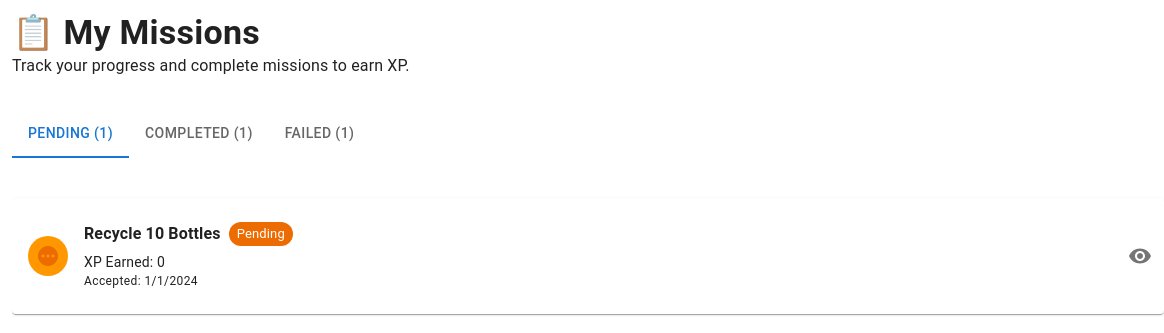
it: MyMissions › switches to Failed tab
Expected: the heading "Recycle 10 Bottles" is shown, [84,220,221,248]
Click the tab "Failed (1)" at [320, 134], box [269,110,370,158]
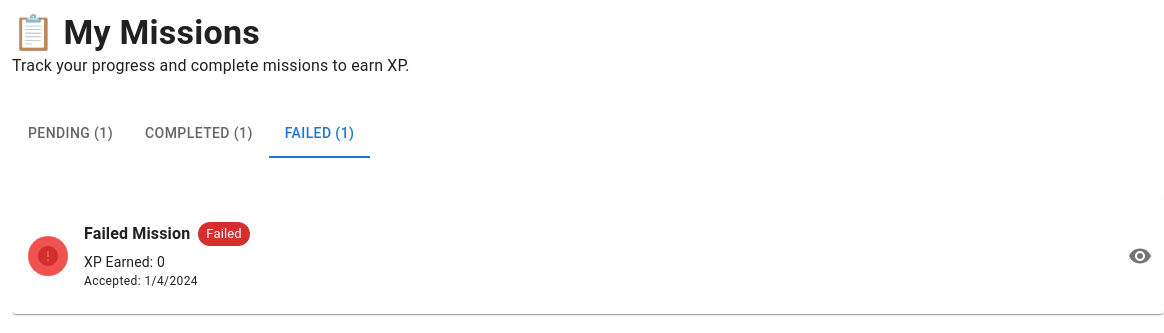
Result: the heading "Failed Mission" is shown at [84,220,190,248]
Result: the heading "Recycle 10 Bottles" is gone
